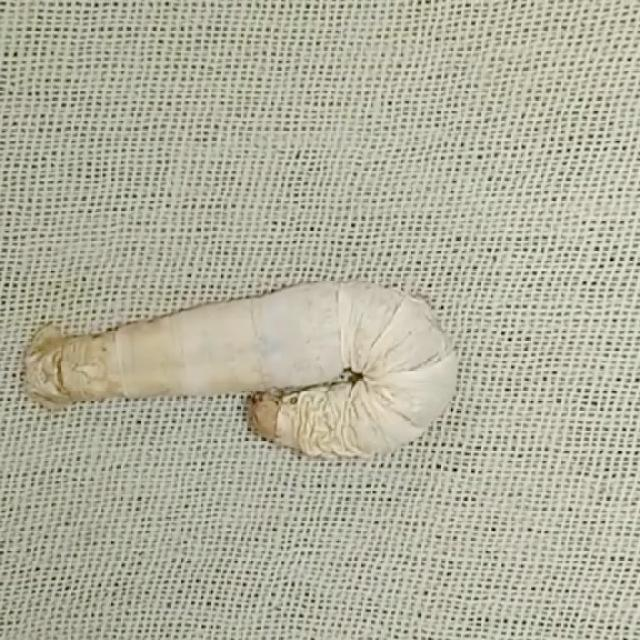Grasserie: (16, 246, 468, 497)
